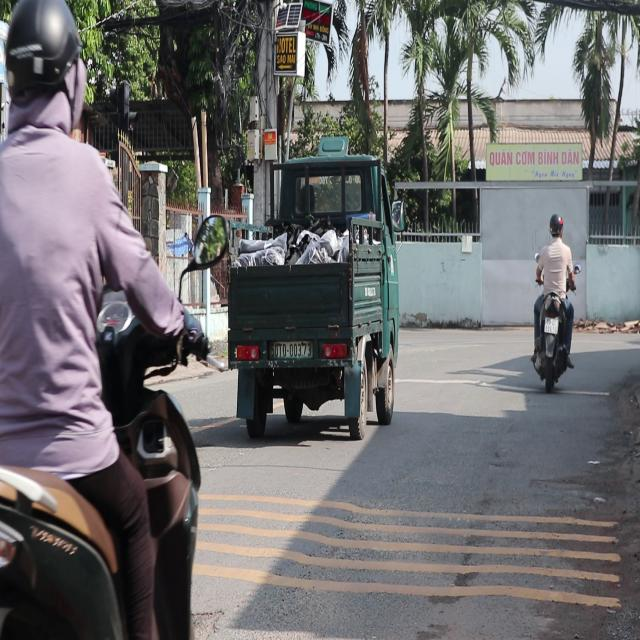helmet: (0, 0, 87, 134)
licenseplate: (0, 0, 216, 637)
